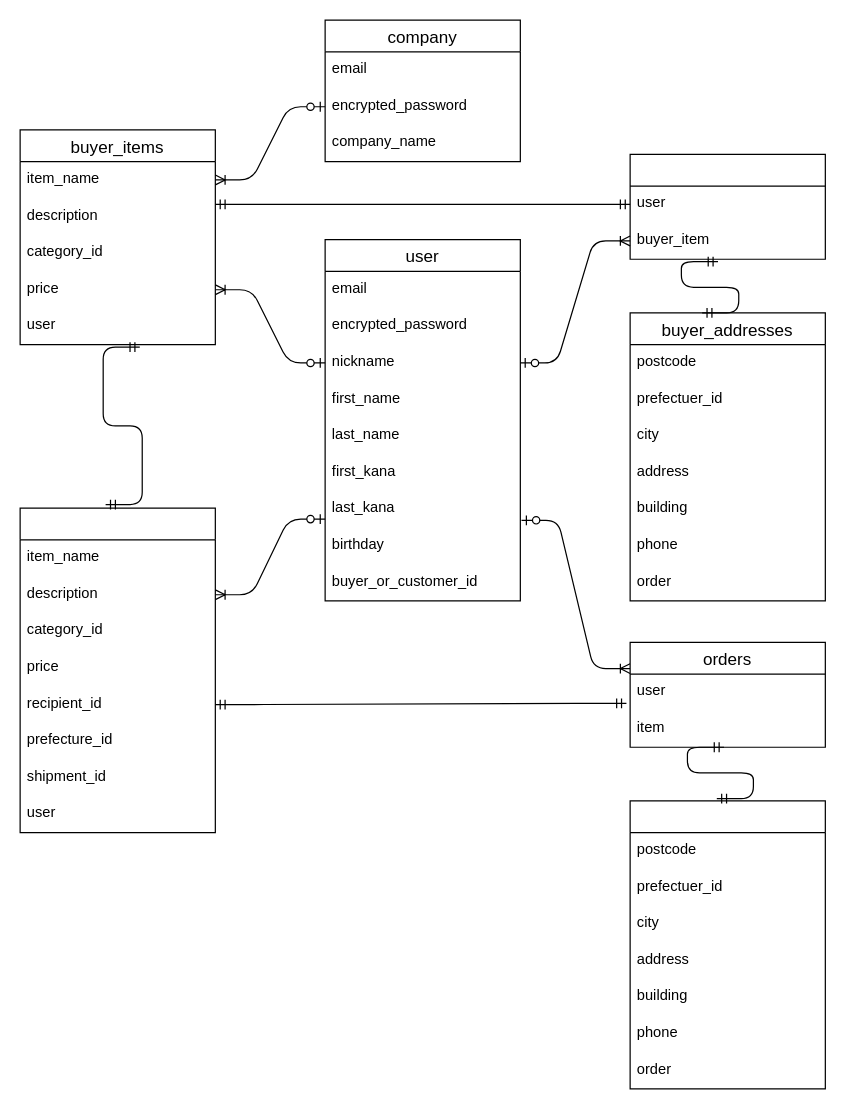
Image size: 845x1109. Some labels were removed from this diagram. Each missing label, with the box of its shape:
addresses: (629, 800, 825, 1089)
buyer_orders: (629, 153, 825, 259)
items: (19, 507, 215, 833)
